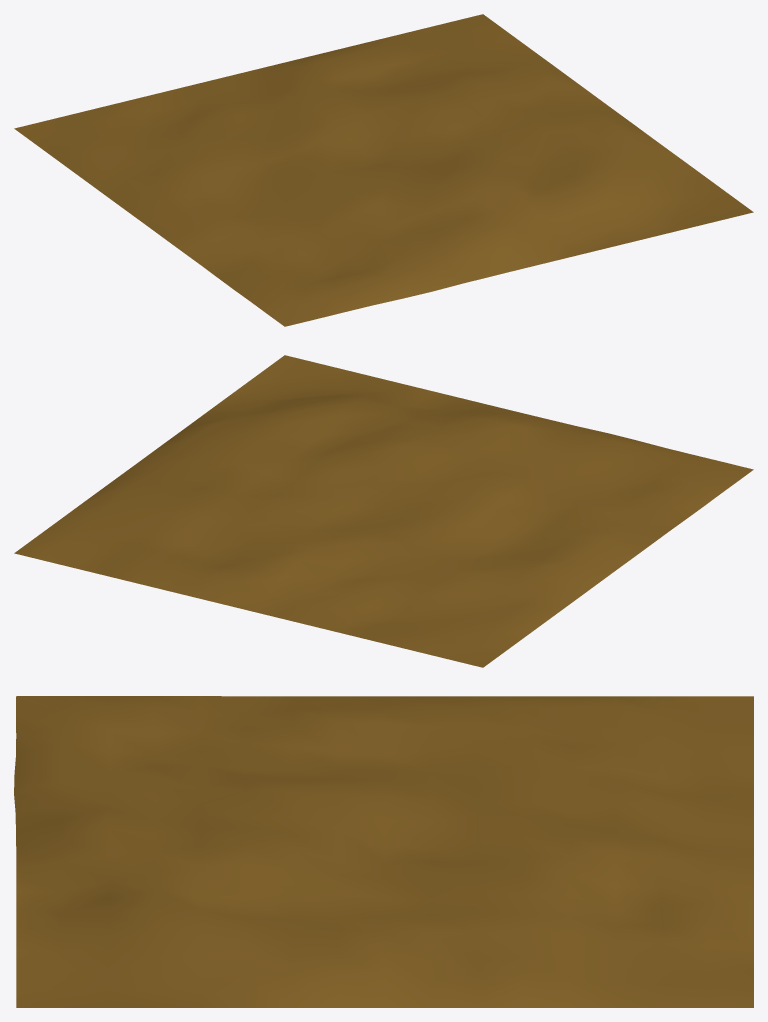
File: soil.obj
3 renders of one model, top to bottom at view 1: azimuth 30°, elevation 25°; view 2: azimuth 150°, elevation 25°; view 3: azimuth 270°, elevation 25°, orthographic. The views are drawn at different scales.
Parts seen in each view (by area): view 1: Plane; view 2: Plane; view 3: Plane.
Boxes of the visible parts, box(x1,y1,x2,y2) form: Plane: box(14, 14, 753, 326); Plane: box(14, 355, 753, 667); Plane: box(14, 696, 753, 1007).
Bounding box in the file's own units: 2 × 0.0977 × 2.01.
